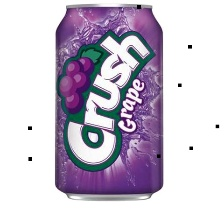can: (51, 1, 173, 206)
